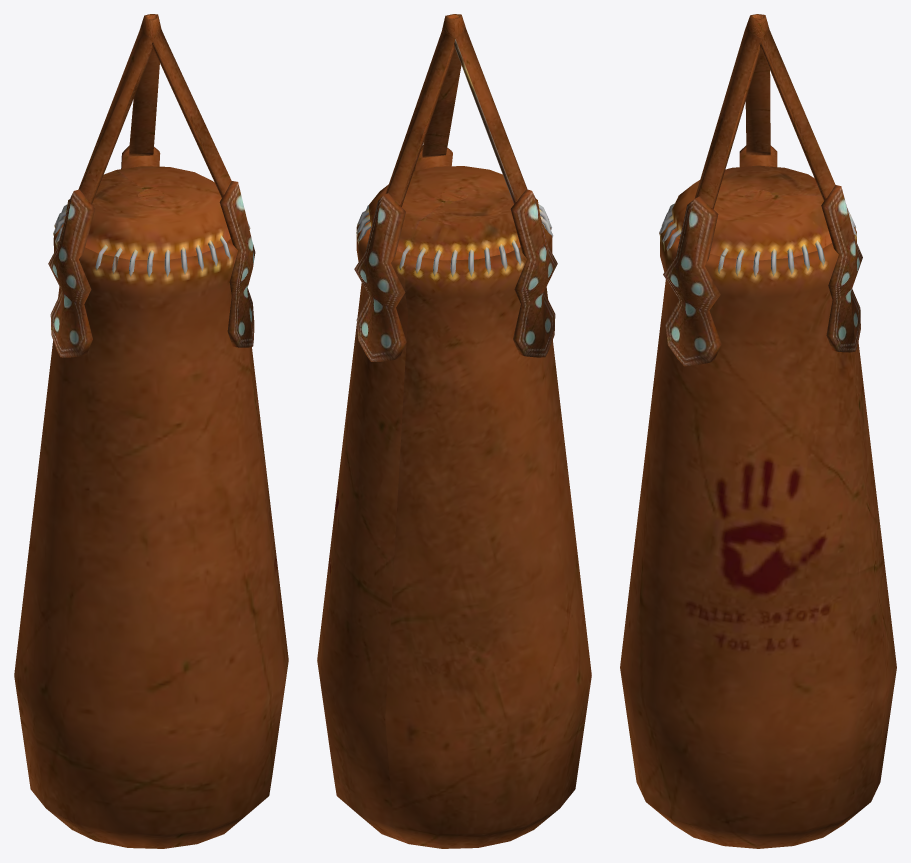
Rendered from punching-bag.glb.
The picture shows the model from 3 angles, left to right: view 1: azimuth 30°, elevation 25°; view 2: azimuth 150°, elevation 25°; view 3: azimuth 270°, elevation 25°; orthographic projection.
Visible parts, largest first — view 1: PunchingBeg_low; view 2: PunchingBeg_low; view 3: PunchingBeg_low.
Boxes of the visible parts, box(x1,y1,x2,y2) form: PunchingBeg_low: box(14, 14, 288, 848); PunchingBeg_low: box(317, 14, 591, 848); PunchingBeg_low: box(620, 14, 896, 848).
Bounding box in the file's own units: 0.3797 × 1.2 × 0.3797.
1 material, 1 textured.
